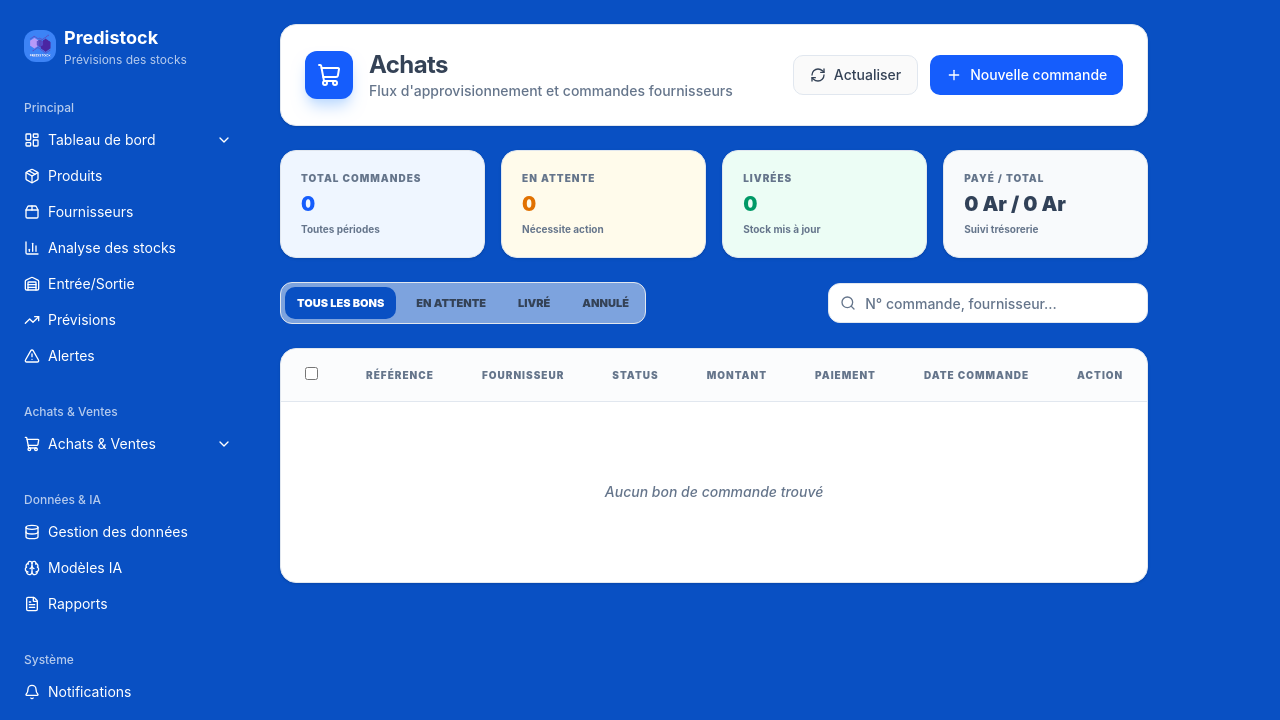
Test: Intégration — l'interface Achats & Ventes est complète et accessible › le menu « Achats & Ventes » donne accès aux cinq écrans du module
Click the button "Achats & Ventes" at point(128, 444), box x1=16 y1=428 x2=240 y2=460
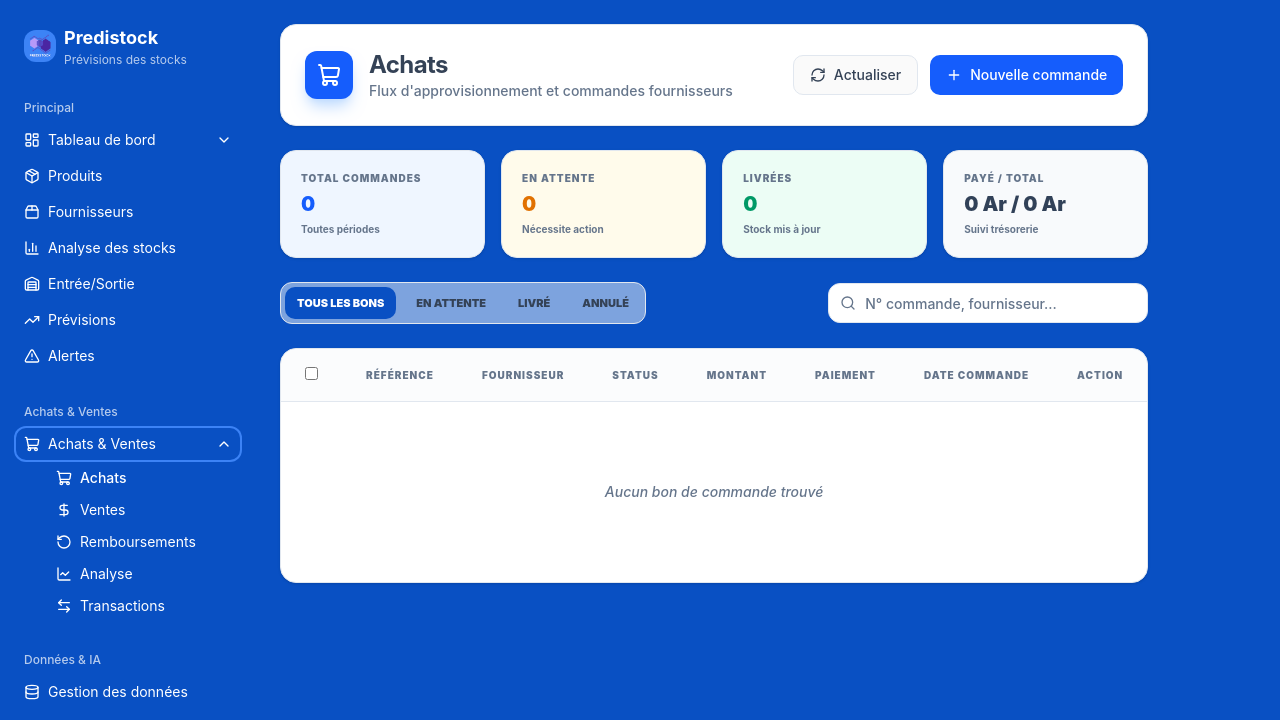
Check: the link "Achats" is shown, box x1=80 y1=468 x2=126 y2=488
Check: the link "Ventes" is shown, box x1=80 y1=500 x2=125 y2=520
Check: the link "Remboursements" is shown, box x1=80 y1=532 x2=196 y2=552
